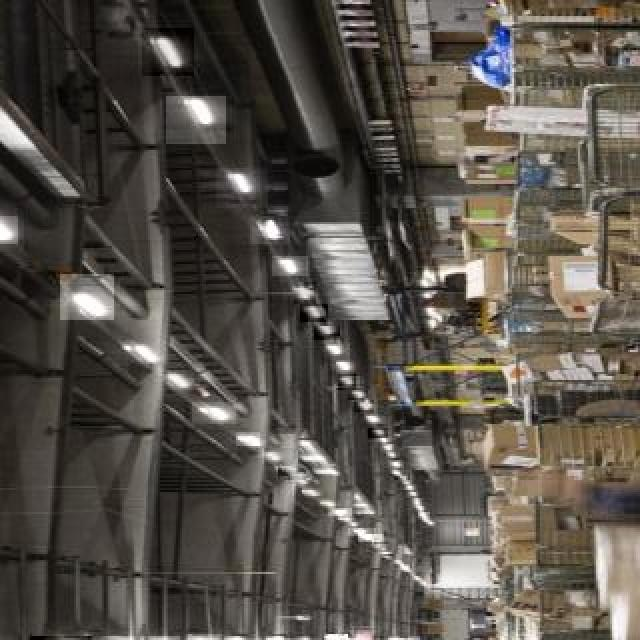fluorescent tube: (151, 24, 193, 87), (222, 153, 258, 211), (180, 82, 218, 136), (157, 367, 207, 400), (0, 211, 38, 254), (194, 396, 243, 429), (58, 288, 111, 316), (264, 249, 309, 280), (233, 424, 275, 456), (126, 338, 169, 369), (253, 213, 291, 240), (296, 294, 329, 323), (285, 280, 322, 293), (120, 632, 172, 640), (90, 634, 146, 640), (174, 634, 220, 640), (40, 636, 96, 640), (218, 636, 260, 640), (212, 636, 252, 640)
